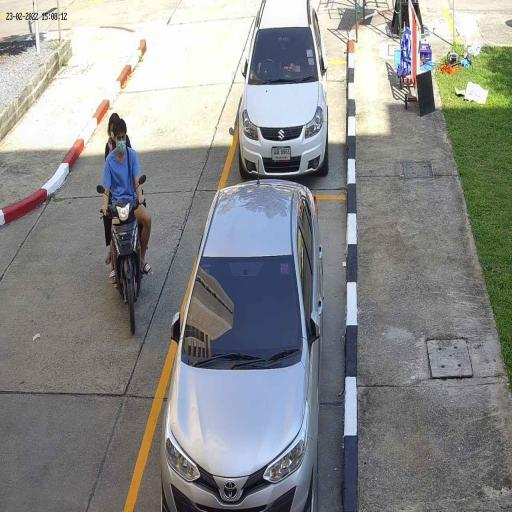car: (158, 176, 326, 512), (236, 0, 330, 179)
motorcycle: (108, 192, 146, 338)
